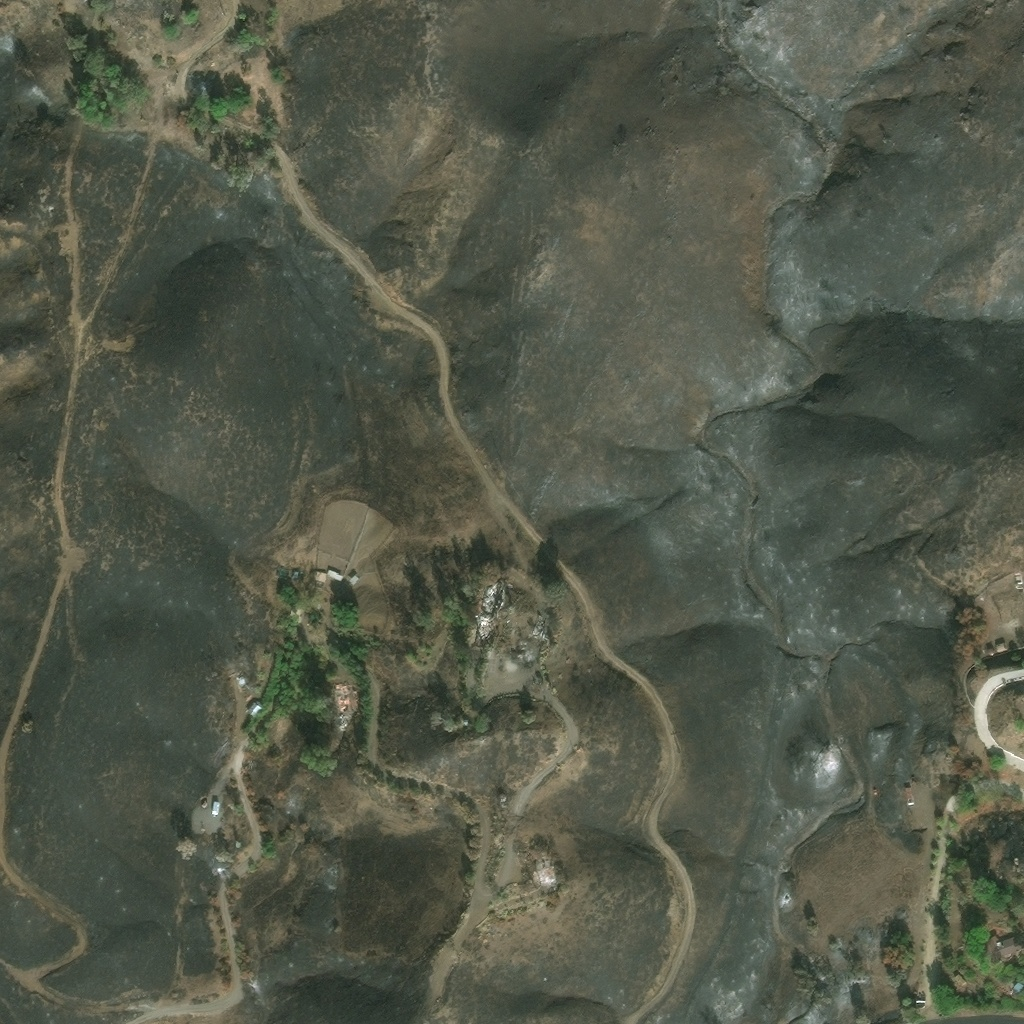0 no-damage: (981, 934, 1022, 964), (245, 699, 263, 718), (952, 972, 967, 987), (1009, 980, 1023, 996), (326, 568, 343, 581), (312, 571, 325, 585), (903, 786, 913, 802), (236, 675, 247, 688), (347, 573, 359, 584), (995, 641, 1006, 651), (986, 645, 996, 655)
2 major-damage: (274, 566, 291, 582), (292, 570, 300, 579)
3 destroyed: (330, 680, 362, 713), (480, 578, 506, 610), (531, 857, 557, 887), (475, 609, 494, 638), (333, 710, 351, 731), (533, 613, 548, 634)
